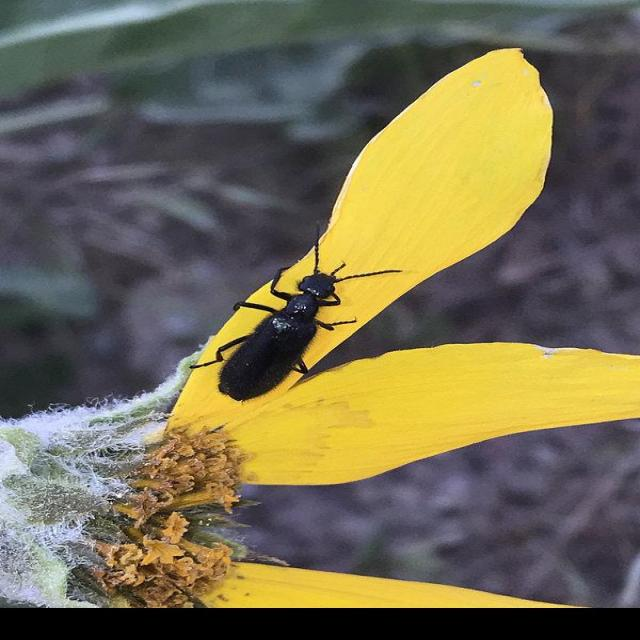BlisterBeetle-Adult-: (188, 219, 406, 403)
